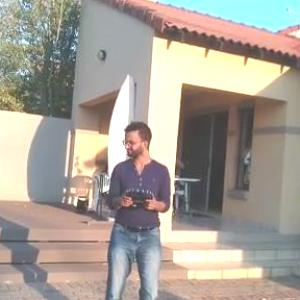follow: (100, 116, 174, 299)
